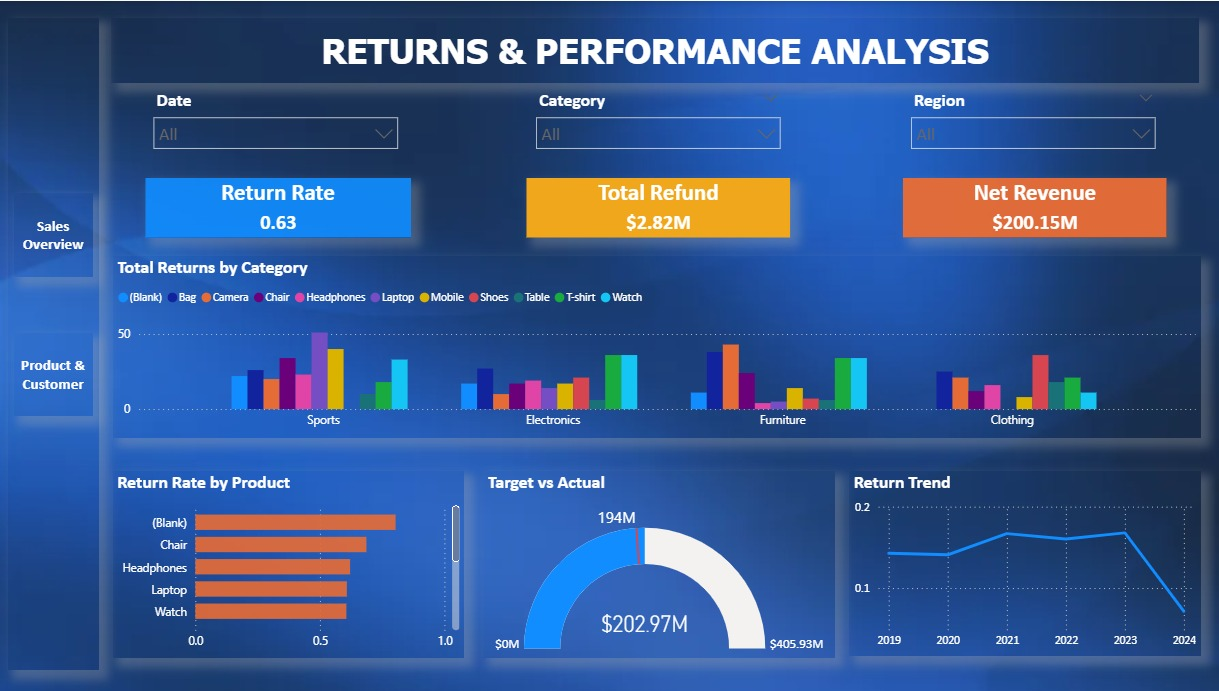

The page's visual inventory and layout, read from the dashboard file:
{"tool":"powerbi","page":{"name":"R & P Analysis","canvas":[1280,720],"ordinal":2},"visuals":[{"type":"shape","box":[115.3,17.7,1133.7,68],"z":0},{"type":"slicer","title":"Date","fields":{"Values":["Product_Data.Launch_Date"]},"box":[150.8,85.7,274.9,76.9],"z":1000},{"type":"slicer","title":"Date","fields":{"Values":["Product_Data.Category"]},"box":[548.4,85.7,274.9,76.9],"z":2000},{"type":"slicer","title":"Date","fields":{"Values":["Returns_Data.Region"]},"box":[940,85.7,274.9,76.9],"z":3000},{"type":"card","title":"Total Refund","fields":{"Values":["Measures Table.Total_Refund_Amt"]},"box":[549.1,184.8,274.9,62.1],"z":4000},{"type":"card","title":"Net Revenue","fields":{"Values":["Measures Table.Net Revenue"]},"box":[940.8,184.8,274.9,62.1],"z":5000},{"type":"card","title":"Return Rate","fields":{"Values":["Measures Table.Return_Rate"]},"box":[151.5,184.8,276.4,62.1],"z":6000},{"type":"shape","box":[8.5,17,95.2,679.9],"z":7000},{"type":"shape","box":[14.8,345.9,82.8,87.2],"z":8000},{"type":"lineChart","title":"Return Trend","fields":{"Category":["Returns_Data.Return_Date.Variation.Date Hierarchy.Year","Returns_Data.Return_Date.Variation.Date Hierarchy.Quarter","Returns_Data.Return_Date.Variation.Date Hierarchy.Month"],"Y":["Measures Table.Return_Rate"]},"box":[883.9,490,366.6,193.6],"z":9000},{"type":"clusteredColumnChart","title":"Total Returns by Category","fields":{"Category":["Product_Data.Category"],"Y":["Measures Table.Total Returns"],"Series":["Product_Data.Product_Name"]},"box":[116.8,266.1,1133.7,189.2],"z":10000},{"type":"barChart","fields":{"Category":["Product_Data.Product_Name"],"Y":["Measures Table.Return_Rate"]},"box":[116.8,490,366.6,195.1],"z":11000},{"type":"gauge","title":"Target vs Actual","fields":{"Y":["Measures Table.Total_Revenue"],"TargetValue":["Sum(Sales_Targets.Target_Revenue)"]},"box":[504,490,366.6,195.1],"z":12000},{"type":"shape","box":[14.8,199.5,82.8,87.2],"z":13000}]}

Visuals, with their boxes on the page's 1280x720 design canvas (x1, y1, x2, y2). These are canvas units, not pixel positions in the 1219x691 screenshot, which may show the page scaled, cropped or inside an application window:
shape: Rect(115, 18, 1249, 86)
"Date" slicer: Rect(151, 86, 426, 163)
"Date" slicer: Rect(548, 86, 823, 163)
"Date" slicer: Rect(940, 86, 1215, 163)
"Total Refund" card: Rect(549, 185, 824, 247)
"Net Revenue" card: Rect(941, 185, 1216, 247)
"Return Rate" card: Rect(152, 185, 428, 247)
shape: Rect(8, 17, 104, 697)
shape: Rect(15, 346, 98, 433)
"Return Trend" lineChart: Rect(884, 490, 1250, 684)
"Total Returns by Category" clusteredColumnChart: Rect(117, 266, 1250, 455)
barChart - Product_Data.Product_Name x Measures Table.Return_Rate: Rect(117, 490, 483, 685)
"Target vs Actual" gauge: Rect(504, 490, 871, 685)
shape: Rect(15, 200, 98, 287)
